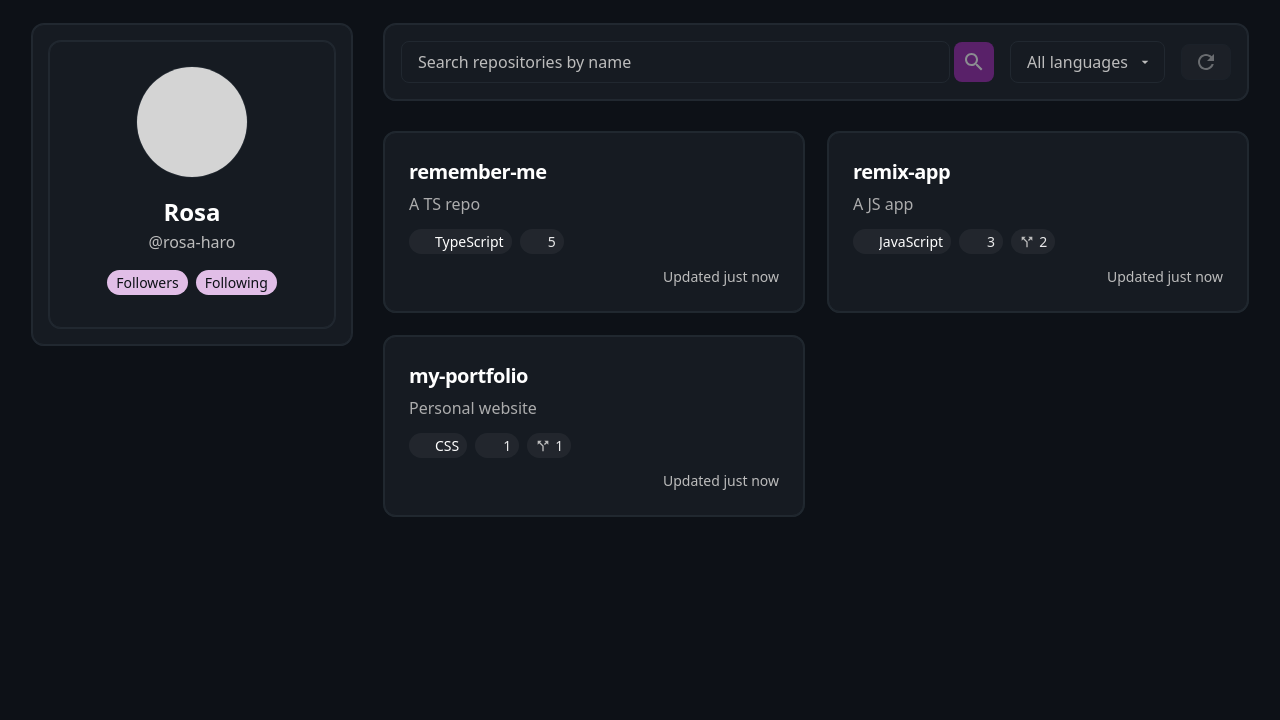
UserPage — repo filters › filters repositories by language (TypeScript)
expect the heading "remember-me" is shown: met, box [409,158,547,185]
expect the heading "remix-app" is shown: met, box [853,158,950,185]
Select "TypeScript" in the dropdown named "filter by language": (1088, 62) [1010,41,1165,83]
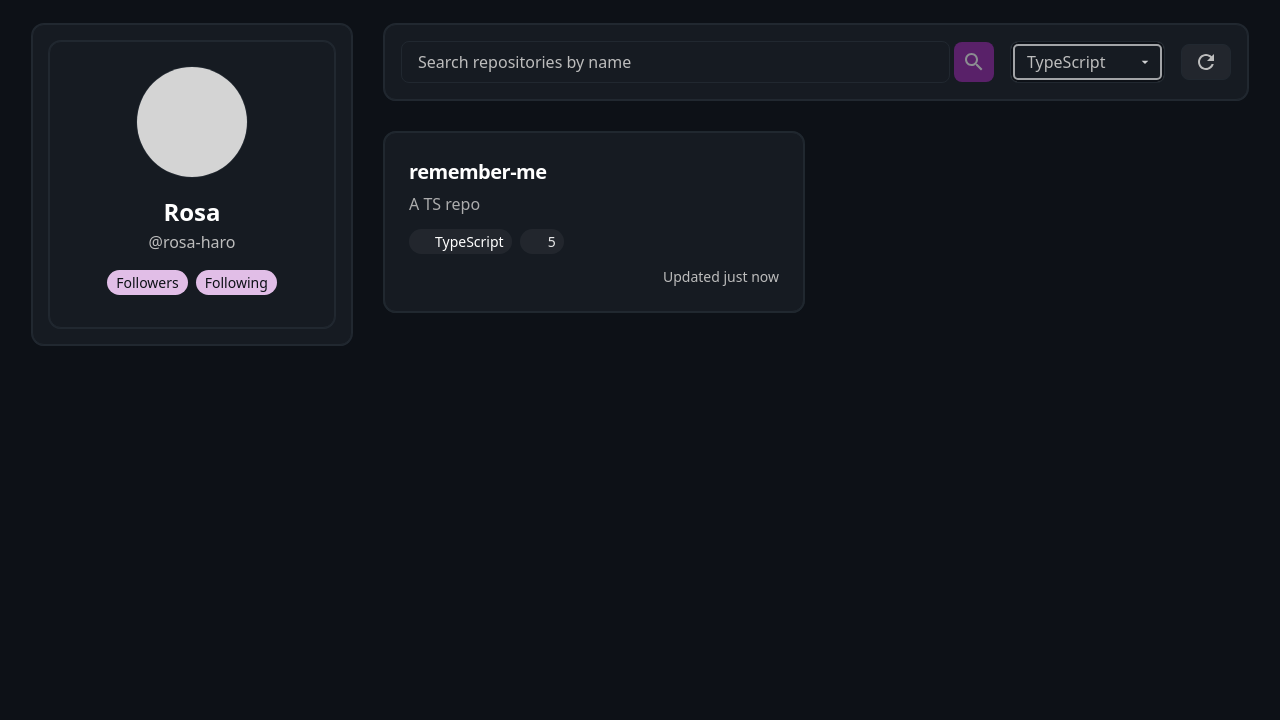
expect the heading "remember-me" is shown: met, box [409,158,547,185]
expect the heading "remix-app" is gone: met
expect the heading "my-portfolio" is gone: met
